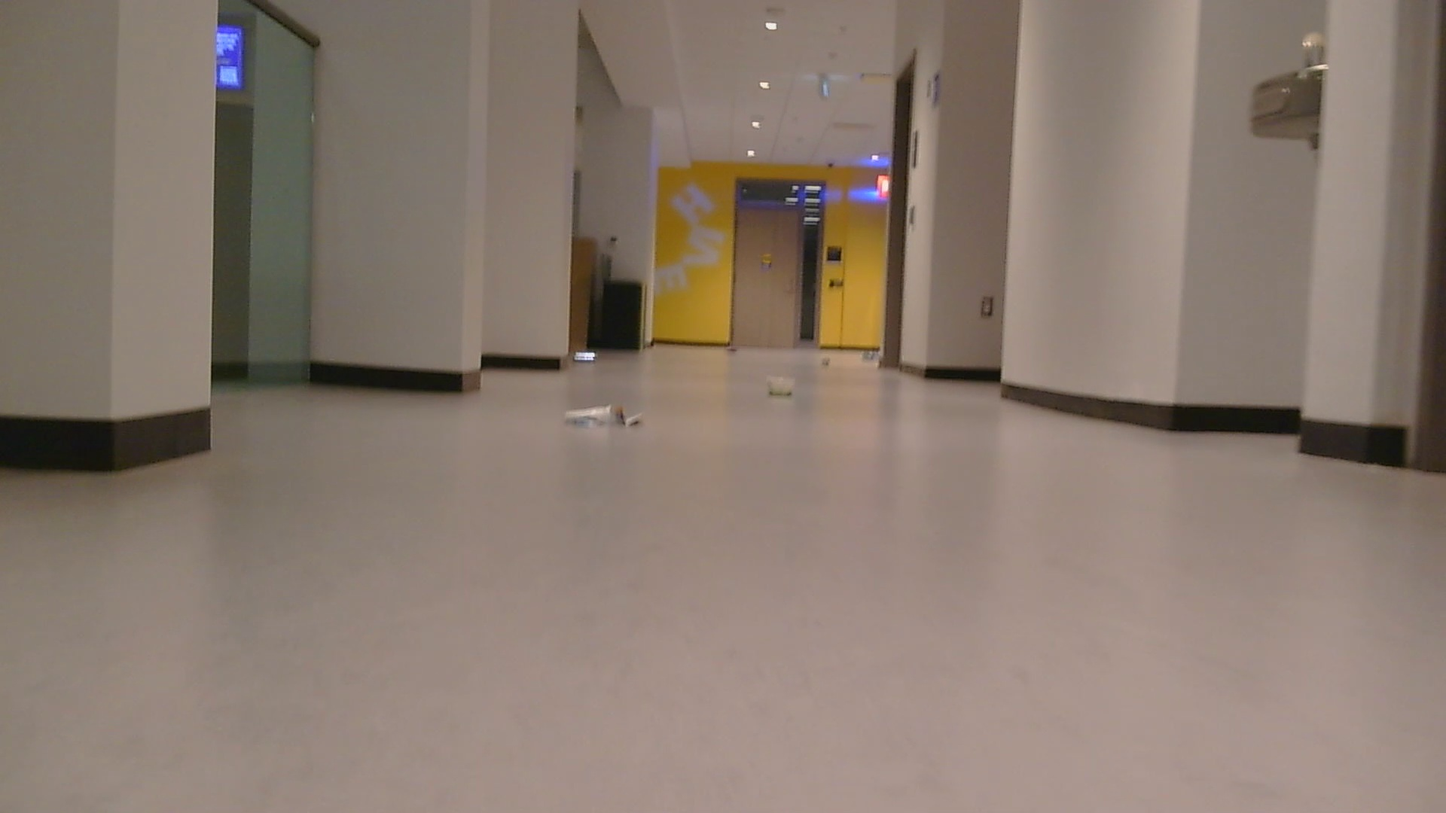carton: (559, 397, 634, 444), (759, 373, 807, 405), (571, 342, 608, 370), (866, 343, 899, 360), (725, 339, 741, 359), (825, 354, 835, 373)
